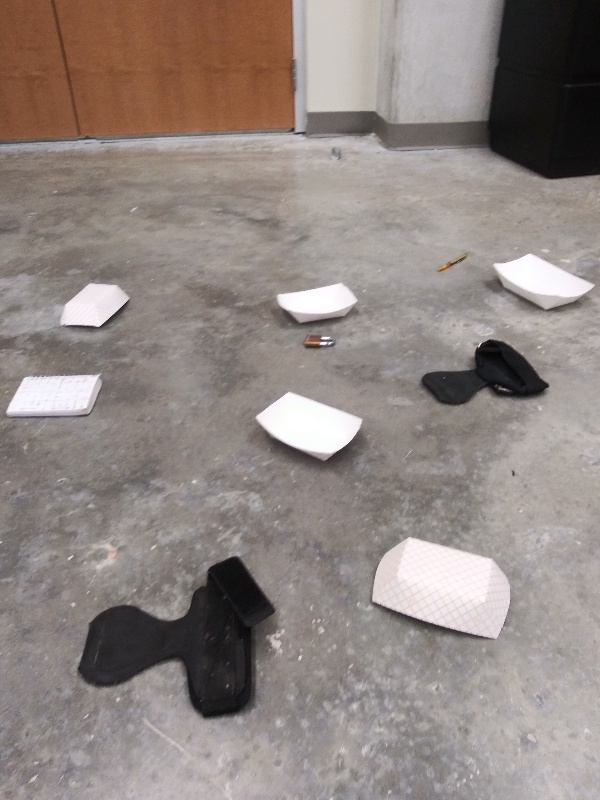plate: (365, 535, 516, 644), (252, 387, 367, 472), (484, 251, 595, 312), (271, 278, 364, 330), (55, 282, 135, 332)
